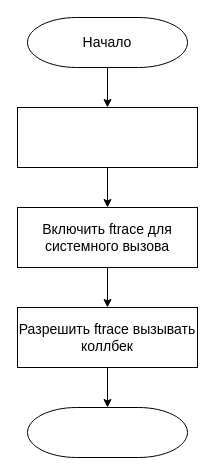
Some shapes in this 215 by 475 pixel diagram are drawn without their labels. The shapes that lost their labels are listed below. From the top down, each one's centre as x and y in pixels, then its label:
At pixel 107 137: "Найти адрес обработчика системного вызова".
At pixel 107 432: "Конец".
